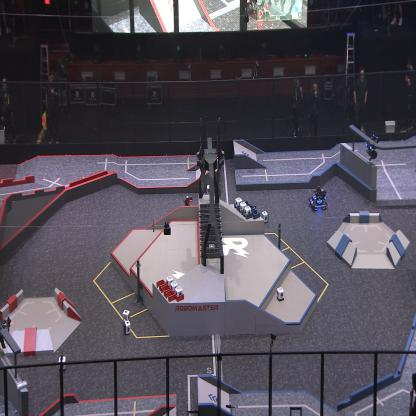car: (308, 184, 328, 212), (176, 194, 194, 221)
